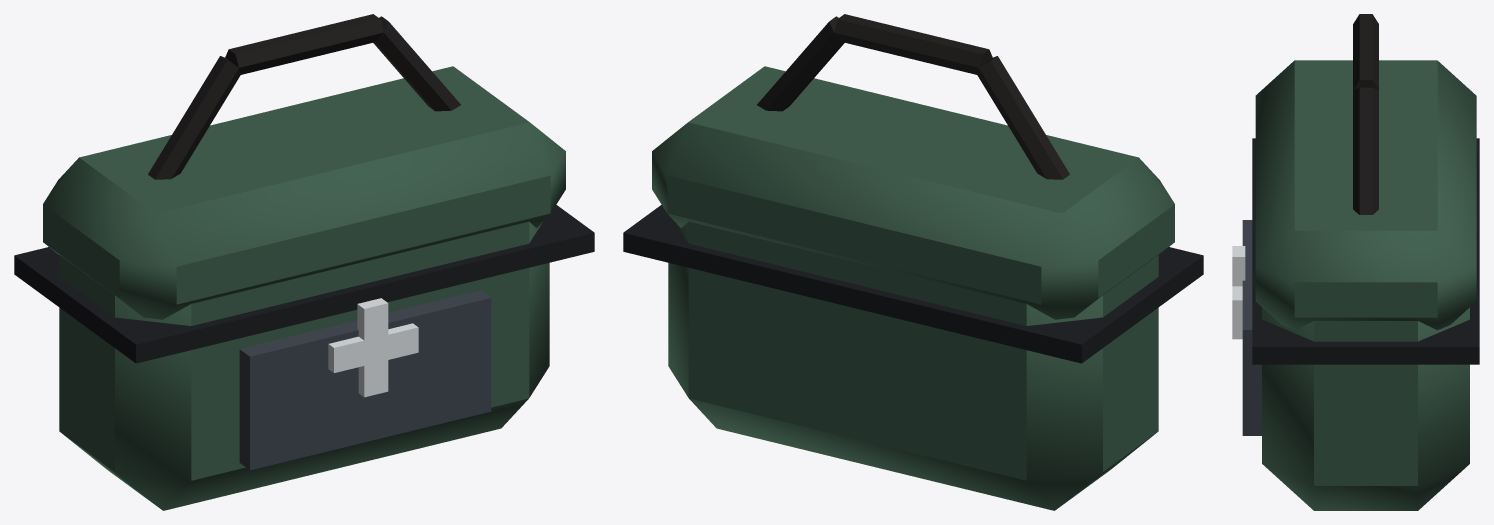
Rendered from medtool_medical_shoulder_bag.glb.
3 views of the same model, side by side, from view 1: azimuth 30°, elevation 25°; view 2: azimuth 150°, elevation 25°; view 3: azimuth 270°, elevation 25° (orthographic). The views are drawn at different scales.
Parts seen in each view (by area): view 1: medtool_medical_shoulder_bag; view 2: medtool_medical_shoulder_bag; view 3: medtool_medical_shoulder_bag.
Part boxes in pixels (left/top/right/bottom): medtool_medical_shoulder_bag: left=14, top=14, right=594, bottom=510; medtool_medical_shoulder_bag: left=623, top=14, right=1203, bottom=510; medtool_medical_shoulder_bag: left=1232, top=14, right=1479, bottom=510.
Size of the model in its own units: 0.38 by 0.3287 by 0.1905.
